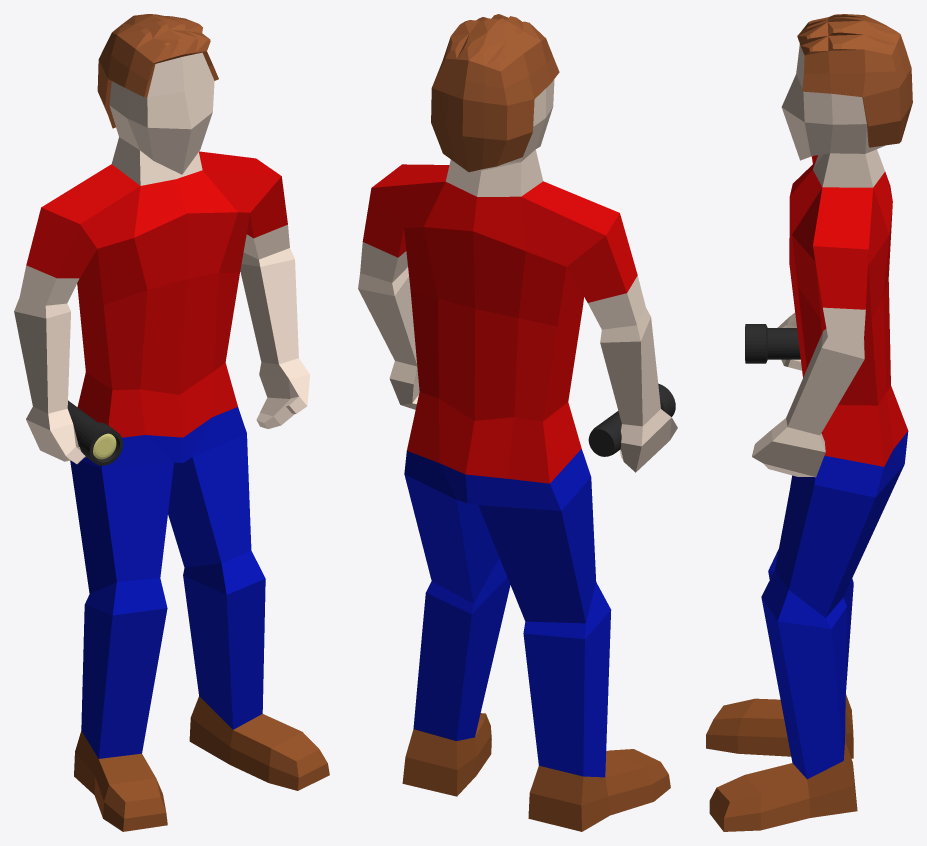
File: Human_grabbing_58.fbx
3 renders of one model, left to right at view 1: azimuth 30°, elevation 25°; view 2: azimuth 150°, elevation 25°; view 3: azimuth 270°, elevation 25°, orthographic. The views are drawn at different scales.
Visible parts, largest first — view 1: Person.003, Cylinder.002; view 2: Person.003, Cylinder.002; view 3: Person.003, Cylinder.002.
Boxes of the visible parts, x1,y1,x2,y2 form: Person.003: [14, 14, 329, 831]; Cylinder.002: [67, 400, 122, 465]; Person.003: [358, 14, 677, 831]; Cylinder.002: [588, 383, 675, 456]; Person.003: [706, 14, 912, 831]; Cylinder.002: [745, 324, 800, 363].
Size of the model in its own units: 0.5865 by 1.58 by 0.388.
